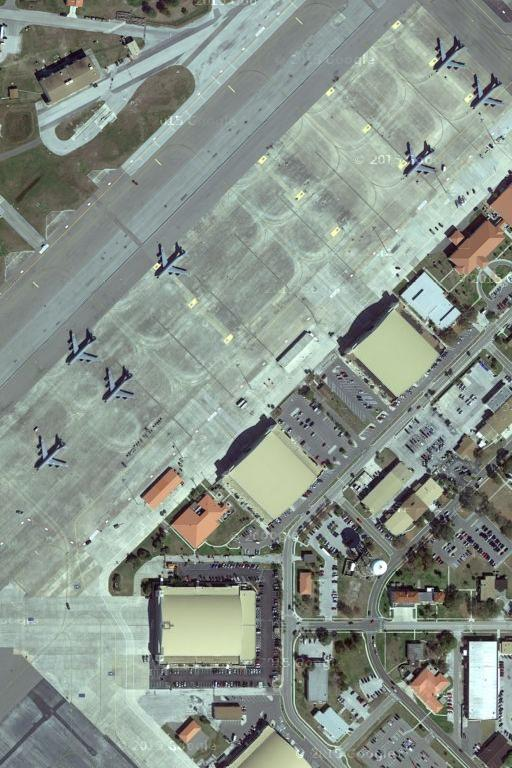KC-135: (426, 33, 472, 76), (469, 68, 508, 113), (153, 240, 193, 281), (400, 136, 439, 178), (33, 431, 69, 474), (100, 365, 138, 405), (64, 326, 101, 367)
